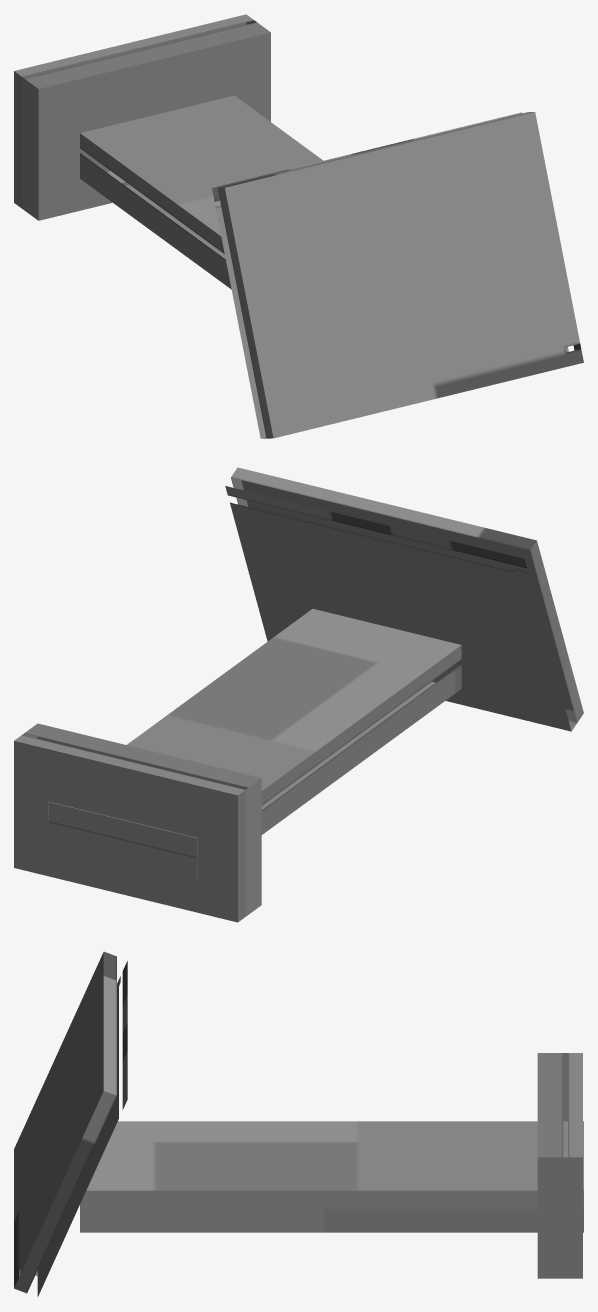
3 views of the same model, one above another, from view 1: azimuth 30°, elevation 25°; view 2: azimuth 150°, elevation 25°; view 3: azimuth 270°, elevation 25° (orthographic). The views are drawn at different scales.
Size of the model in its own units: 0.615 by 0.4252 by 1.06.
